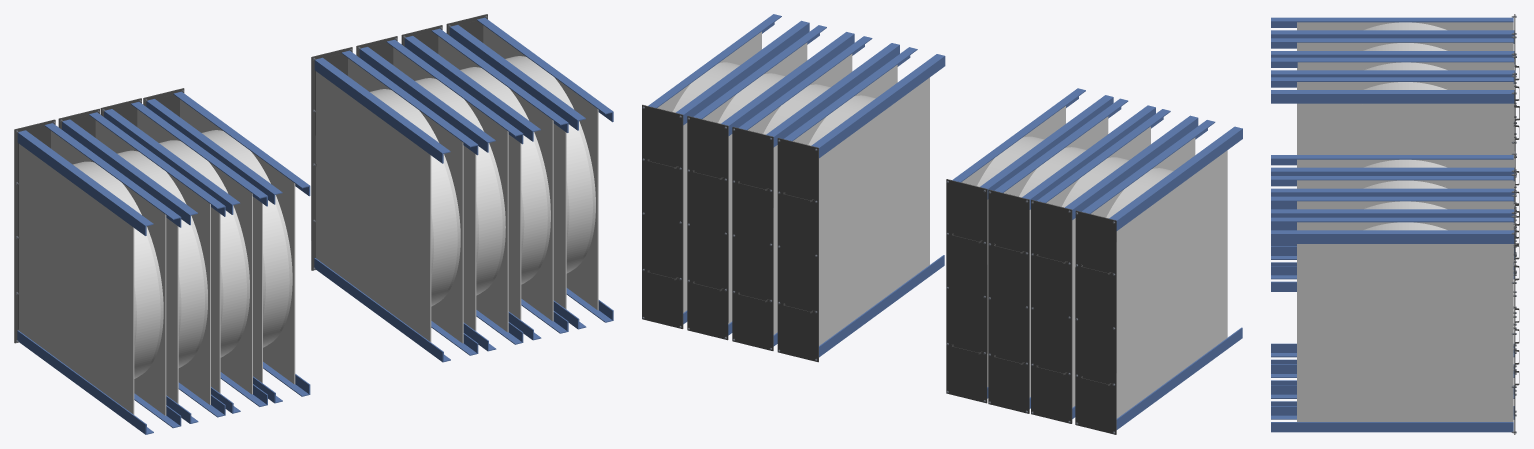
Rendered from katalizator parts.fbx.
3 renders of one model, left to right at view 1: azimuth 30°, elevation 25°; view 2: azimuth 150°, elevation 25°; view 3: azimuth 270°, elevation 25°, orthographic. The views are drawn at different scales.
Visible parts, largest first — view 1: Cylinder.005, Cylinder.002, Cylinder.001, Cylinder.004, Cylinder.003; view 2: Cylinder.005, Cylinder.002, Cylinder.001, Cylinder.003, Cylinder.004; view 3: Cylinder.005, Cylinder.004, Cylinder.003, Cylinder.002, Cylinder.001.
Part boxes in pixels (x1,y1,x2,y2): Cylinder.005: (311,14,613,362); Cylinder.002: (14,119,181,434); Cylinder.001: (58,108,225,423); Cylinder.004: (143,88,310,403); Cylinder.003: (100,98,267,413); Cylinder.005: (642,14,945,362); Cylinder.002: (1075,120,1242,434); Cylinder.001: (1031,109,1198,423); Cylinder.003: (988,98,1155,413); Cylinder.004: (946,88,1113,403); Cylinder.005: (1271,151,1519,434); Cylinder.004: (1271,73,1519,291); Cylinder.003: (1271,54,1519,273); Cylinder.002: (1271,14,1519,232); Cylinder.001: (1271,34,1519,253).
Bounding box in the file's own units: 232 × 100 × 112.
